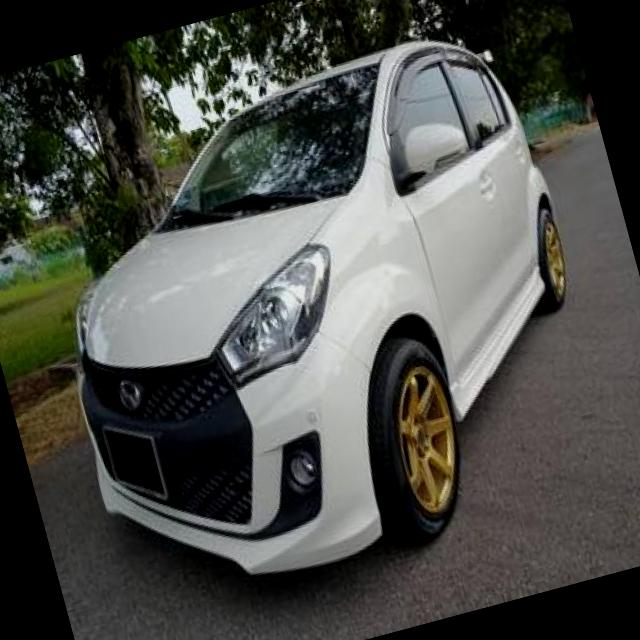PeroduaMyvi: (5, 12, 631, 620)
